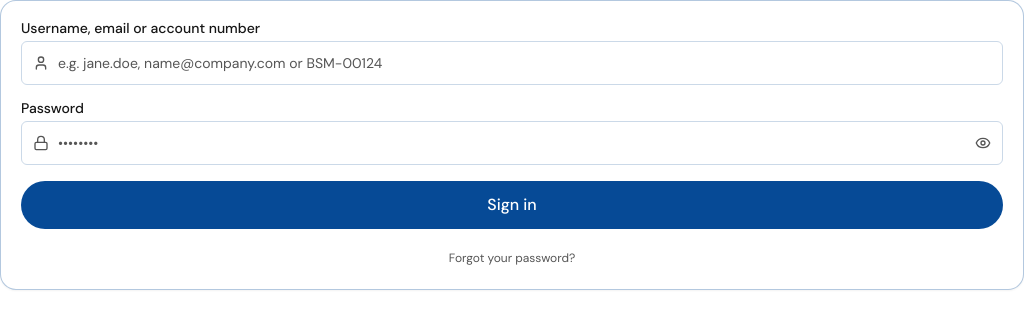
OTP verification screen › back returns to the password step
In the field labelled "Username, email or account number": (512, 63) [21, 41, 1003, 85], type "jane.doe"
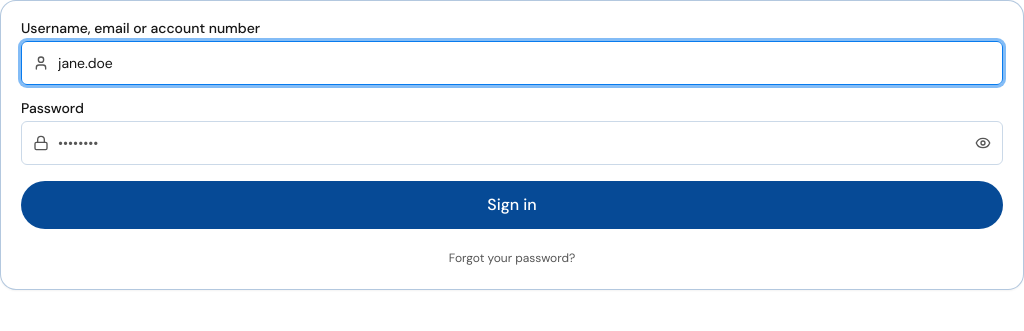
In the password field labelled "Password": (512, 143) [21, 121, 1003, 165], type "secret-password"
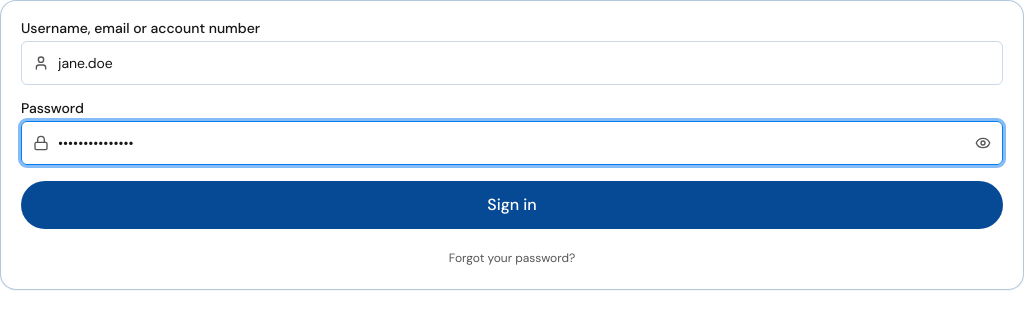
Click the button "Sign in": (512, 205) [21, 181, 1003, 229]
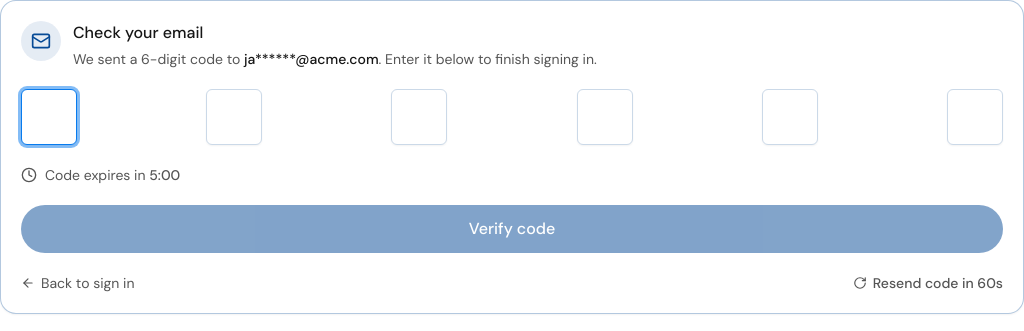
Result: the field named "Digit 1 of 6" is shown at [21, 89, 77, 145]
Click the button "Back to sign in": (78, 283) [21, 273, 134, 293]
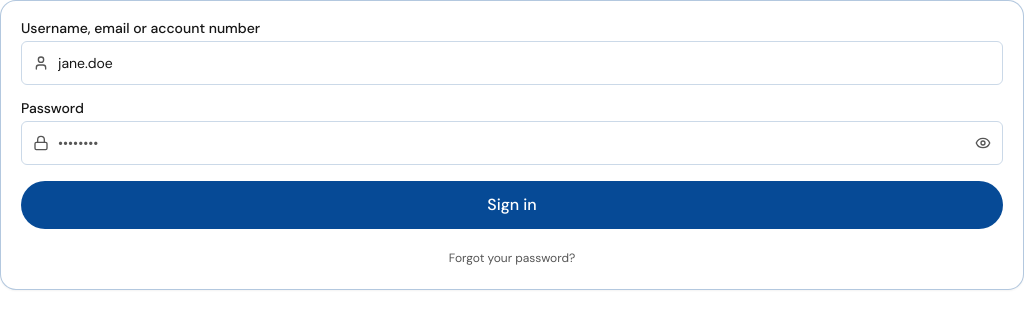
Result: the password field labelled "Password" is shown at [21, 121, 1003, 165]
